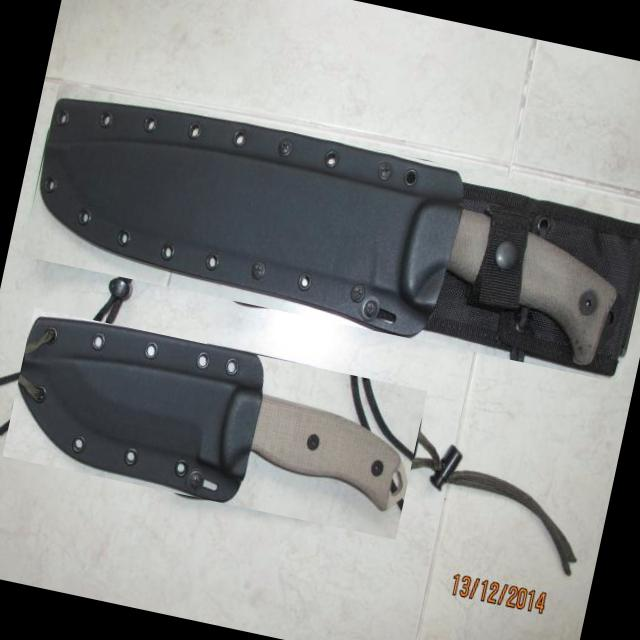Knife: (40, 99, 640, 375), (20, 319, 407, 511)
